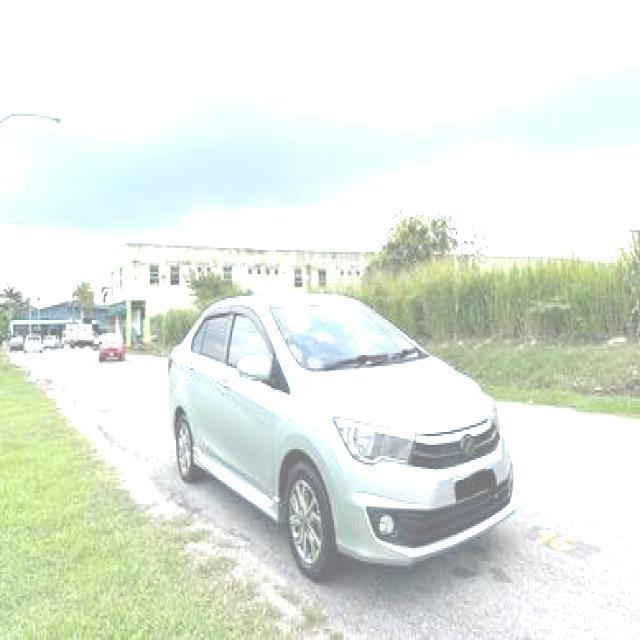PeroduaBezza: (166, 287, 516, 581)
